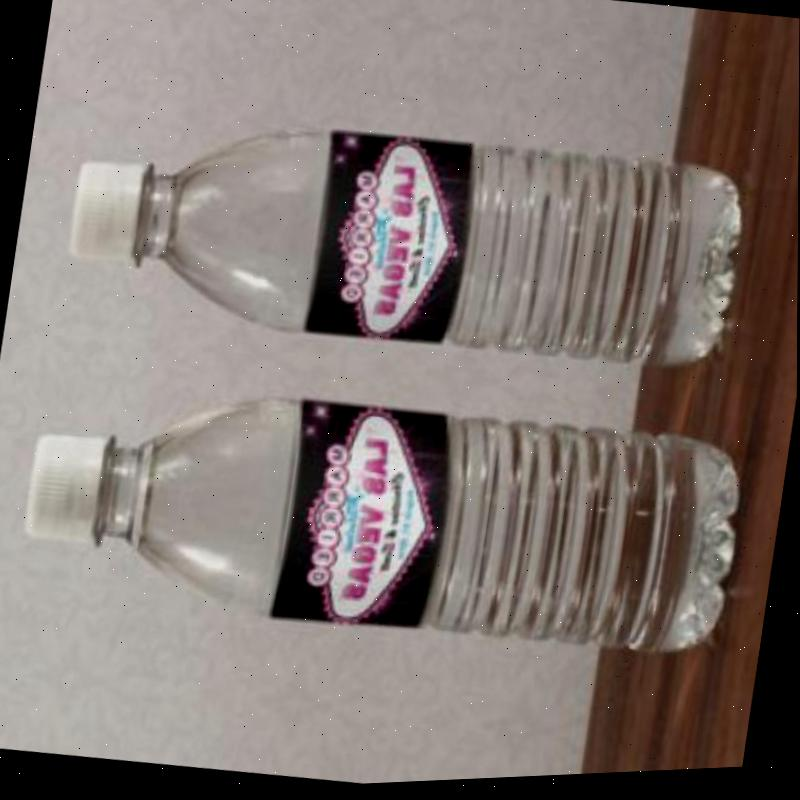botella: (12, 345, 750, 691), (57, 81, 751, 401)
